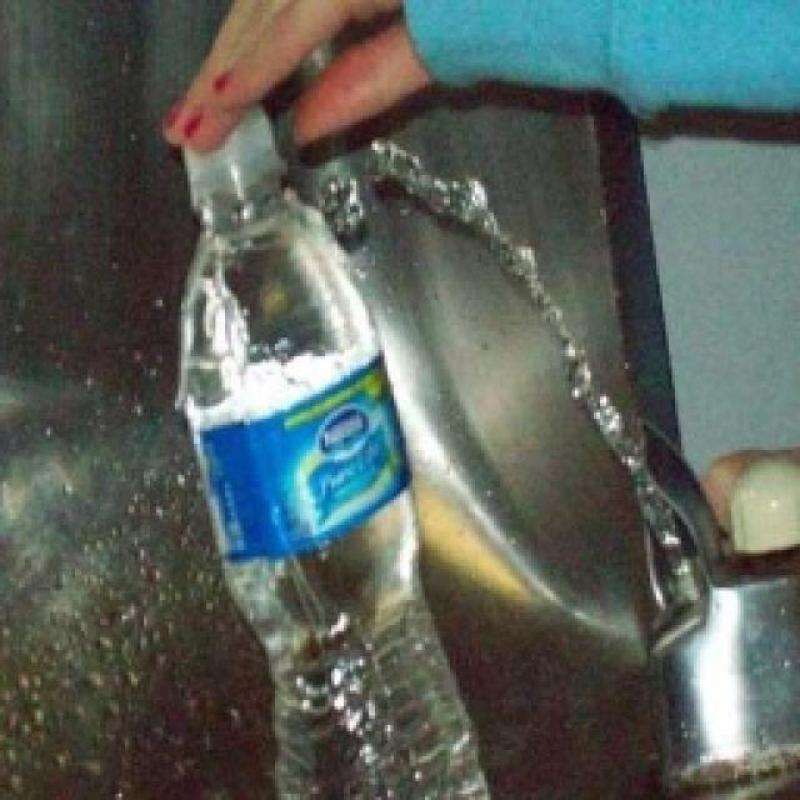botella: (170, 102, 492, 800)
